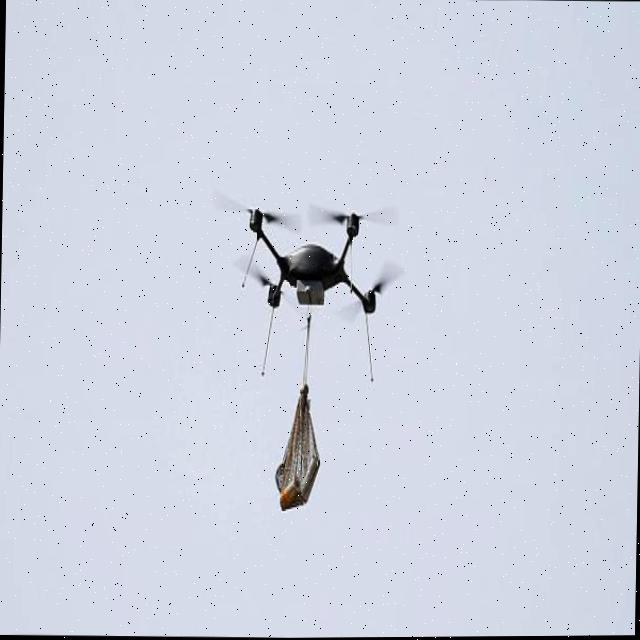drone: (208, 134, 414, 405)
